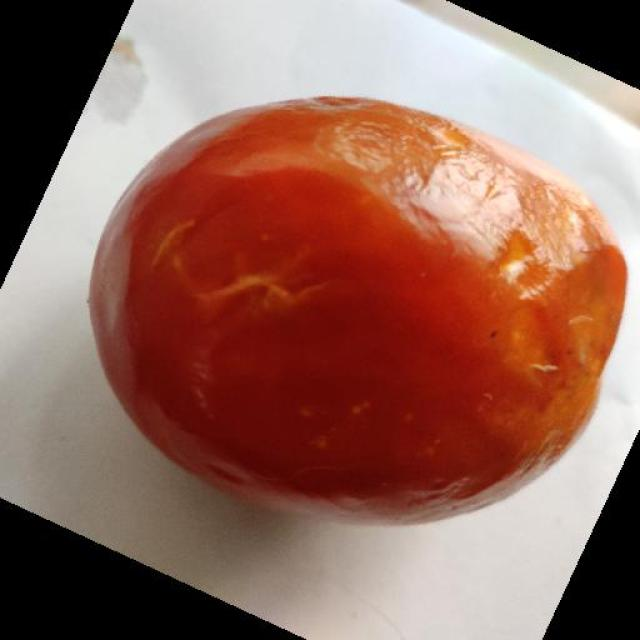Stale_tomato: (97, 92, 603, 520)
